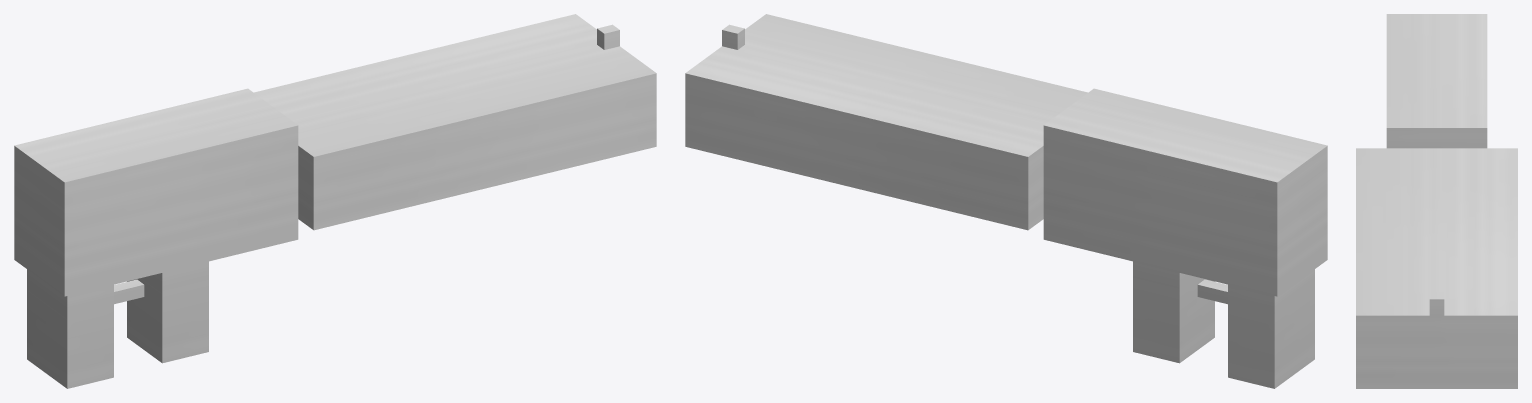
Rendered from minigun.obj.
3 views of the same model, side by side, from view 1: azimuth 30°, elevation 25°; view 2: azimuth 150°, elevation 25°; view 3: azimuth 270°, elevation 25° (orthographic).
Visible parts, largest first — view 1: minigun; view 2: minigun; view 3: minigun.
Part boxes in pixels (x1,y1,x2,y2): minigun: (14, 14, 656, 388); minigun: (685, 14, 1327, 388); minigun: (1356, 14, 1517, 388).
Size of the model in its own units: 0.74 by 0.26 by 0.18.
